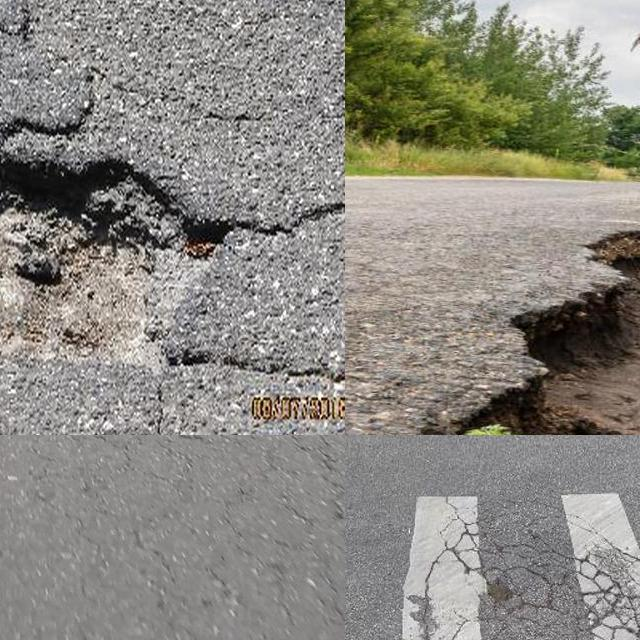Lubang: (0, 155, 222, 374)
Pinggir: (416, 216, 640, 435)
Retak Buaya: (398, 505, 640, 640)
